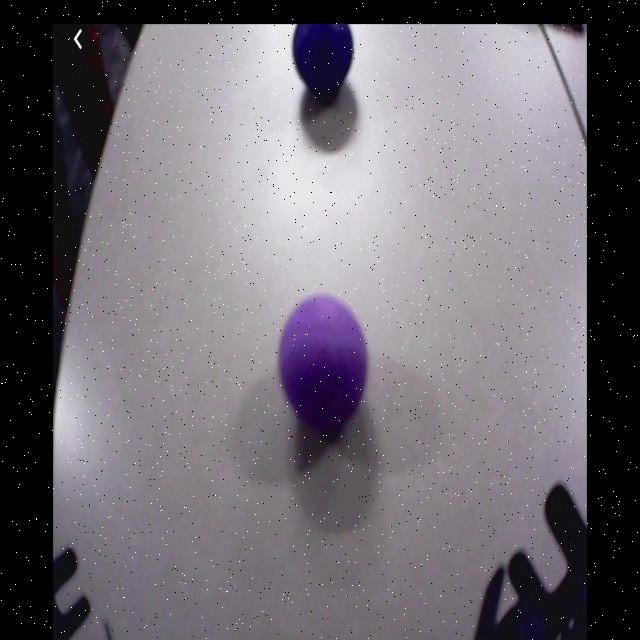ball: (280, 296, 370, 421), (294, 26, 354, 90)
